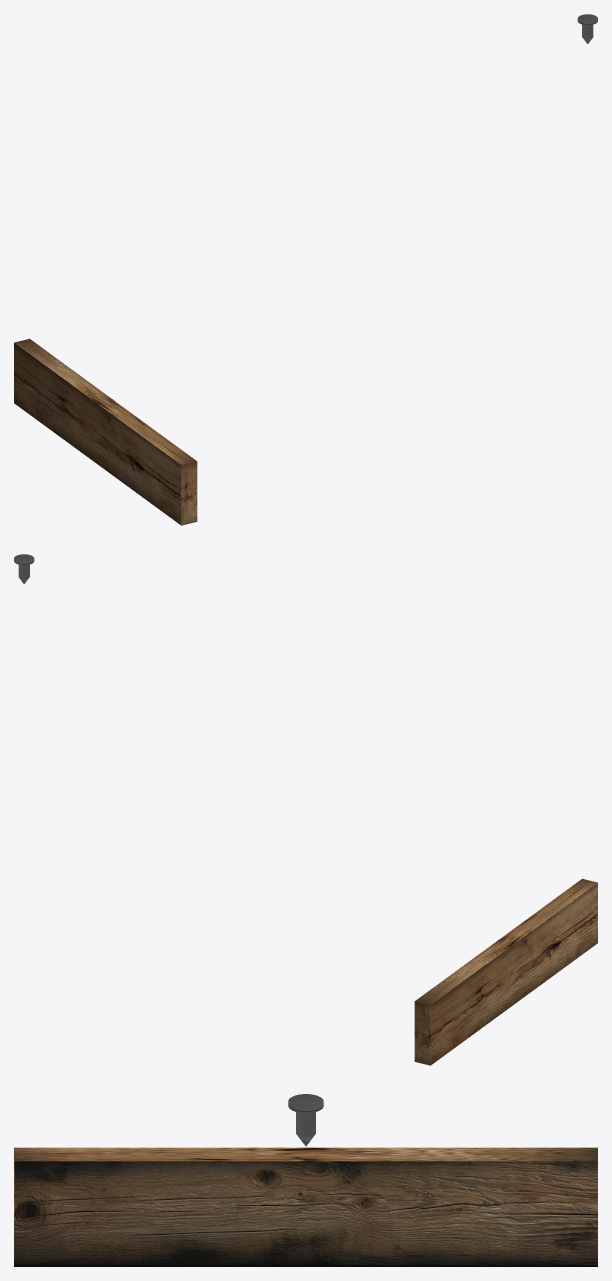
File: WoodPlank.fbx
3 views of the same model, one above another, from view 1: azimuth 30°, elevation 25°; view 2: azimuth 150°, elevation 25°; view 3: azimuth 270°, elevation 25° (orthographic). The views are drawn at different scales.
Visible parts, largest first — view 1: WoodPlank; view 2: WoodPlank; view 3: WoodPlank, Nail.
Boxes of the visible parts, x1=… form: WoodPlank: x1=14, y1=338, x2=197, y2=525; WoodPlank: x1=414, y1=878, x2=597, y2=1065; WoodPlank: x1=14, y1=1147, x2=597, y2=1266; Nail: x1=288, y1=1094, x2=323, y2=1146.
Bounding box in the file's own units: 616 × 385 × 358.
2 materials, 1 textured.
